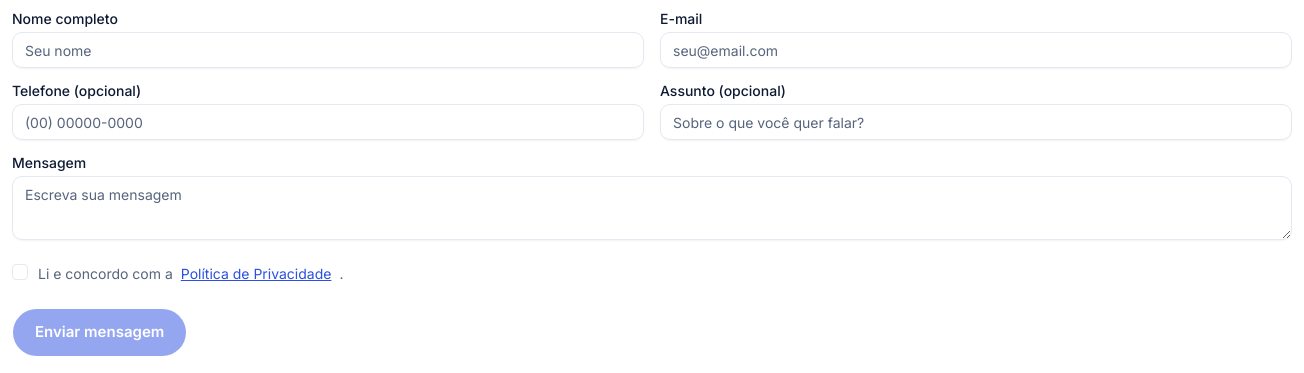
Test: ContactForm › enables submission once required fields and consent are filled
In the field labelled "Nome completo": (328, 50) [12,32,644,68], type "Maria Silva"
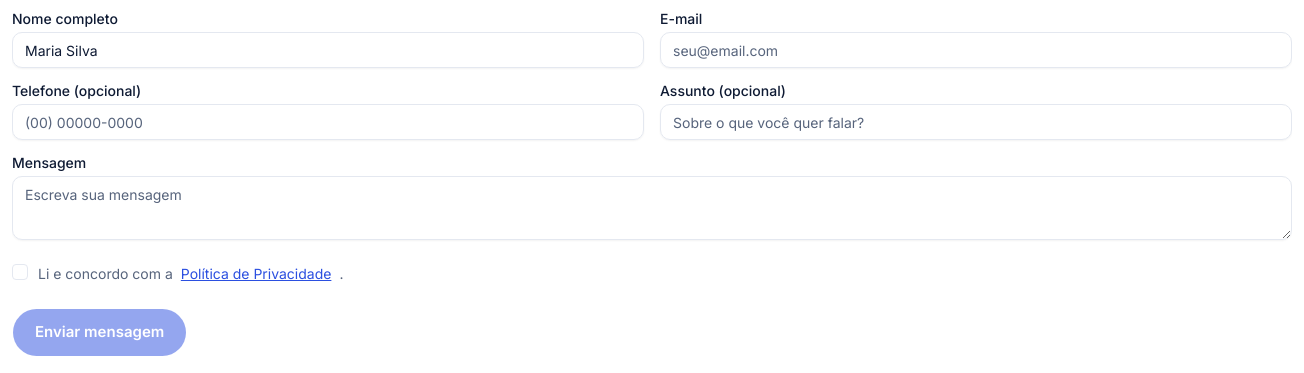
In the field labelled "E-mail": (976, 50) [660,32,1292,68], type "maria@exemplo.com"
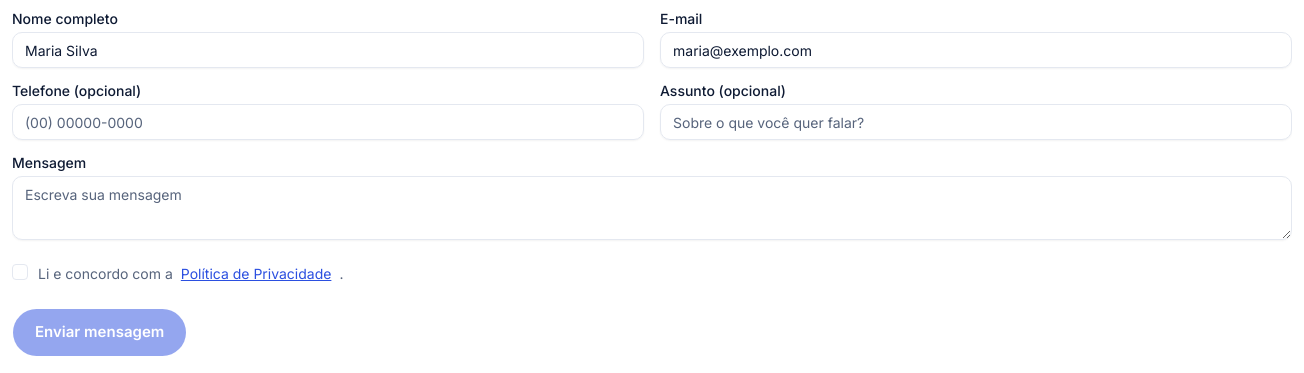
In the text box labelled "Mensagem": (652, 208) [12,176,1292,240], type "Gostaria de saber mais sobre os serviços."
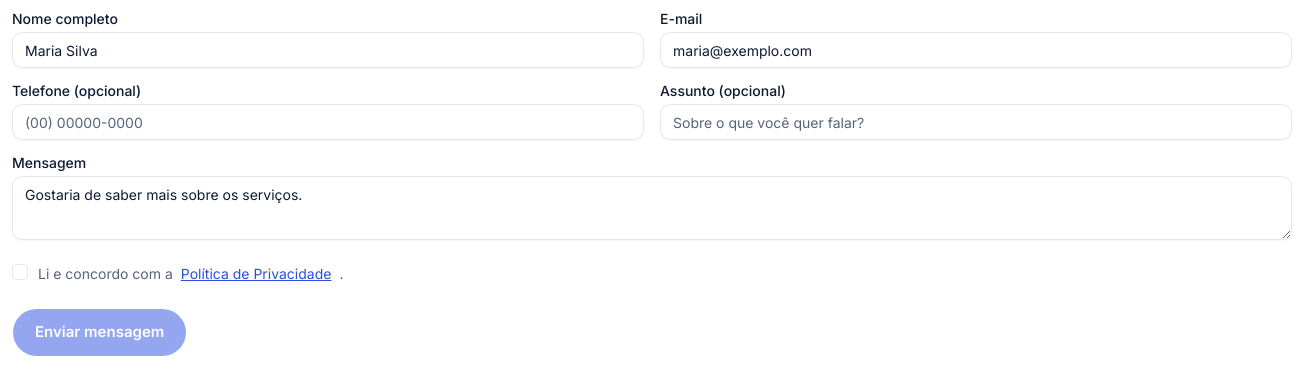
Click the 1st checkbox: (20, 272) [12,264,28,280]
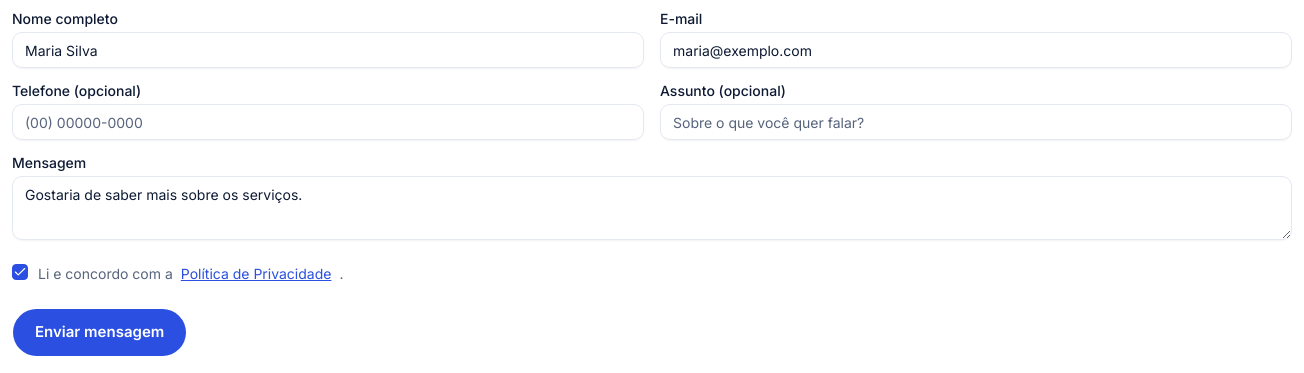
Result: the button "Enviar mensagem" is enabled at [12,308,187,356]
